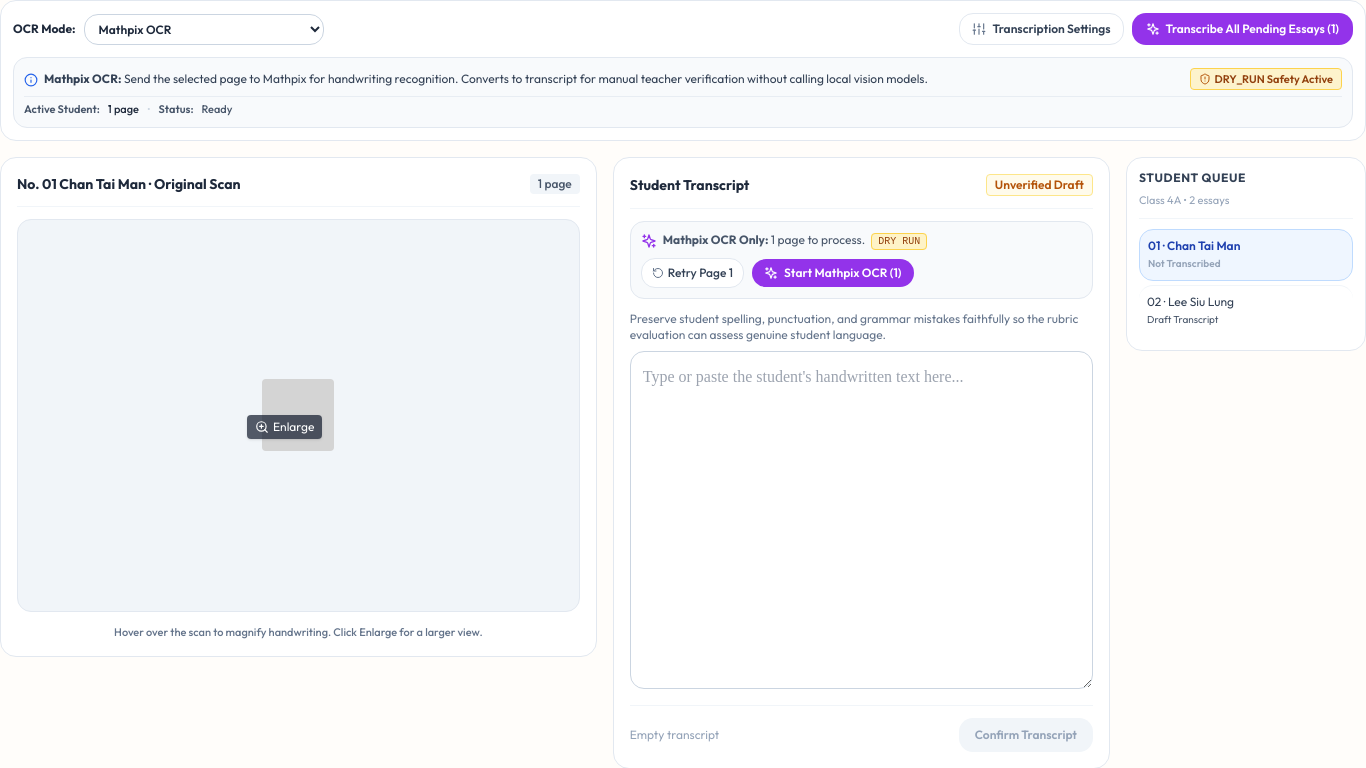
Test case: Step 4: Verify Script - Mathpix OCR & Mode Selector Requirements › 2. Mode A: Mathpix OCR Only › sends ONLY the selected-region crop to Mathpix when a page has a saved writing area (never the full page)
Click the button "Start Mathpix OCR (1)": {"x": 833, "y": 273} [752,259,914,287]
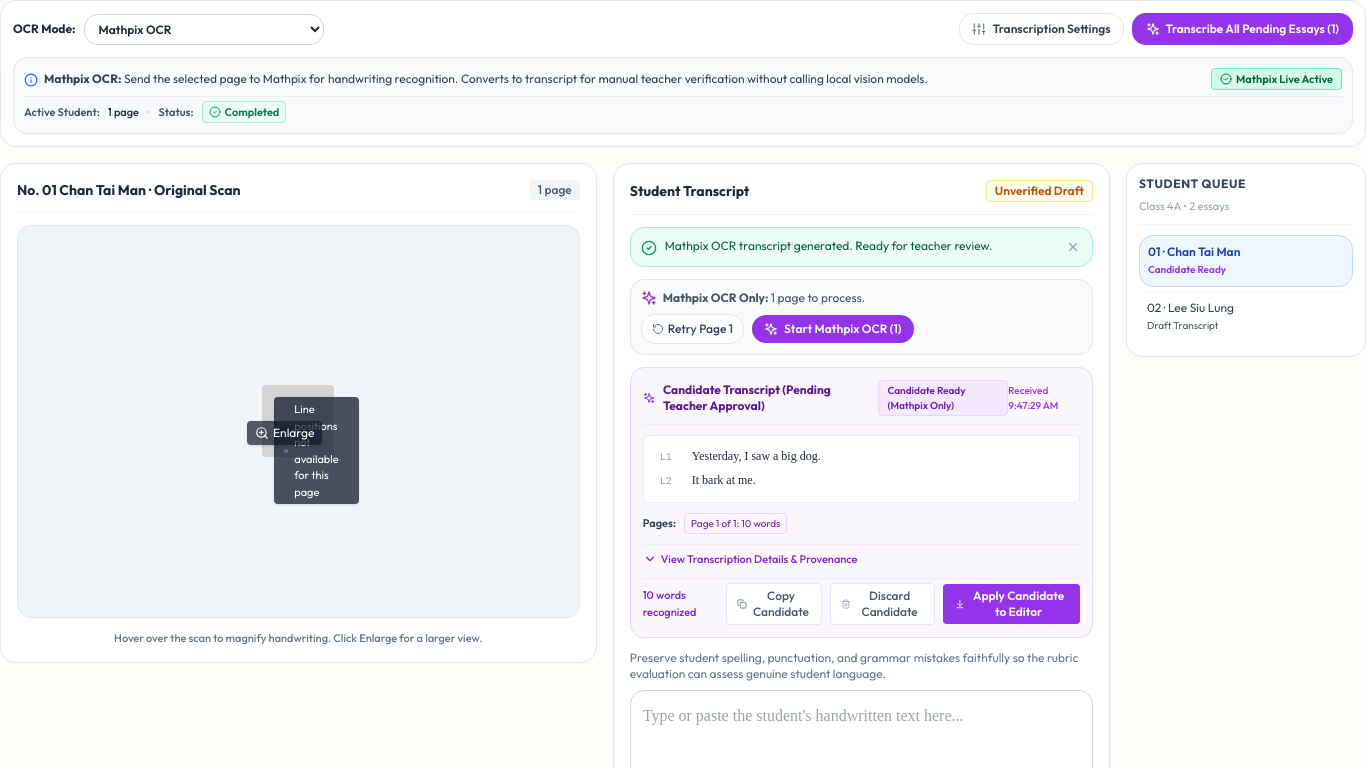
Result: the text "Candidate Ready (Mathpix Only)" is shown at [878,380,1008,416]
